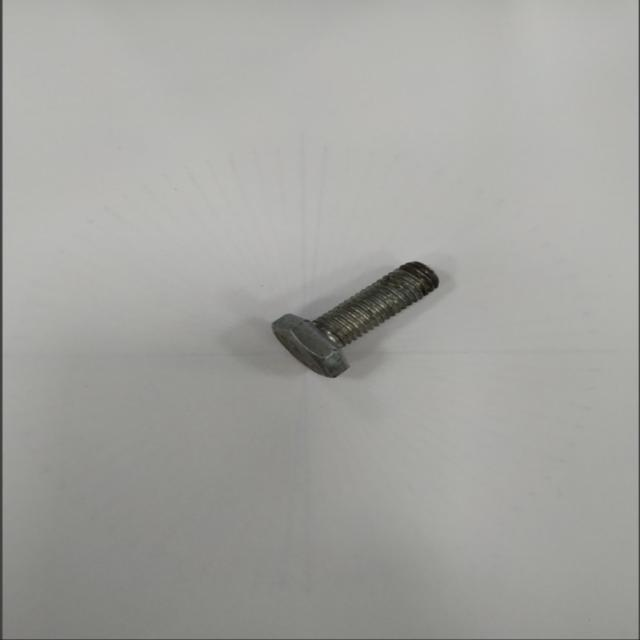Bolt: (273, 261, 438, 377)
